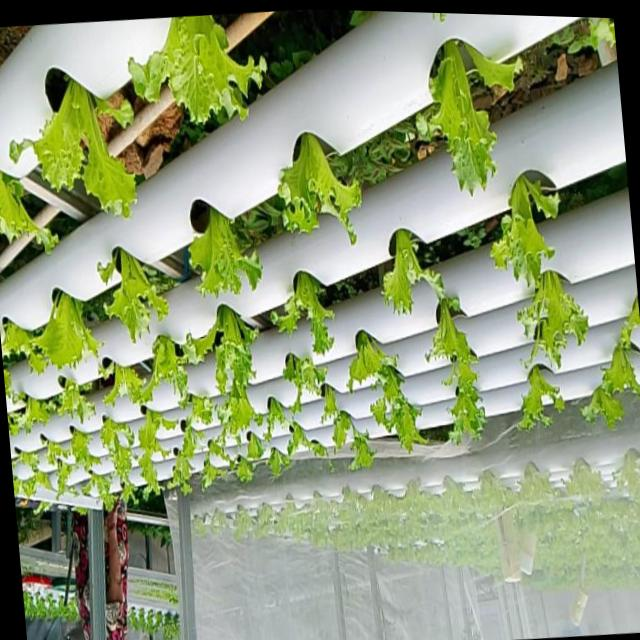Baby: (5, 84, 131, 221), (123, 17, 261, 127), (413, 41, 492, 198), (274, 134, 358, 246), (423, 292, 482, 445), (486, 176, 555, 288), (185, 201, 258, 298), (514, 272, 584, 370), (99, 248, 165, 343), (29, 293, 99, 375), (268, 272, 331, 356), (379, 230, 441, 315), (368, 367, 424, 453), (128, 335, 193, 406), (270, 354, 324, 414), (596, 328, 640, 401), (97, 418, 135, 501), (515, 366, 561, 432), (212, 380, 260, 443), (344, 331, 394, 391), (67, 430, 95, 473), (79, 475, 112, 511), (204, 436, 227, 468), (188, 396, 210, 426), (53, 461, 69, 498)
